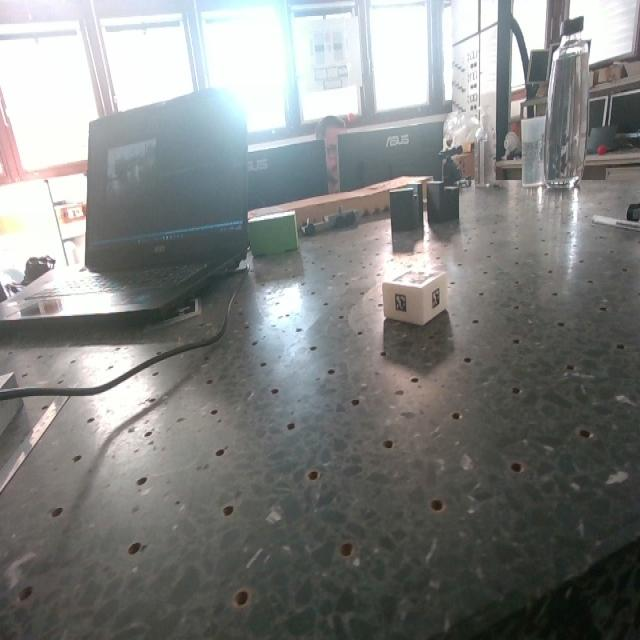Cube: (381, 241, 450, 329)
